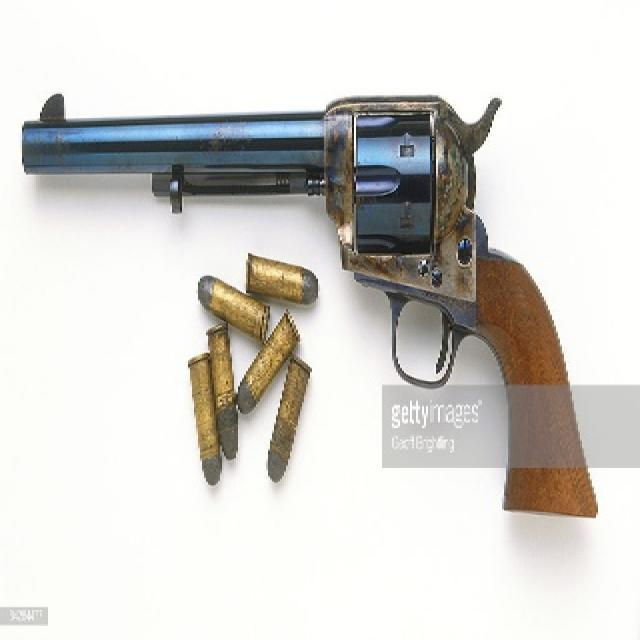weapon: (14, 85, 604, 518)
